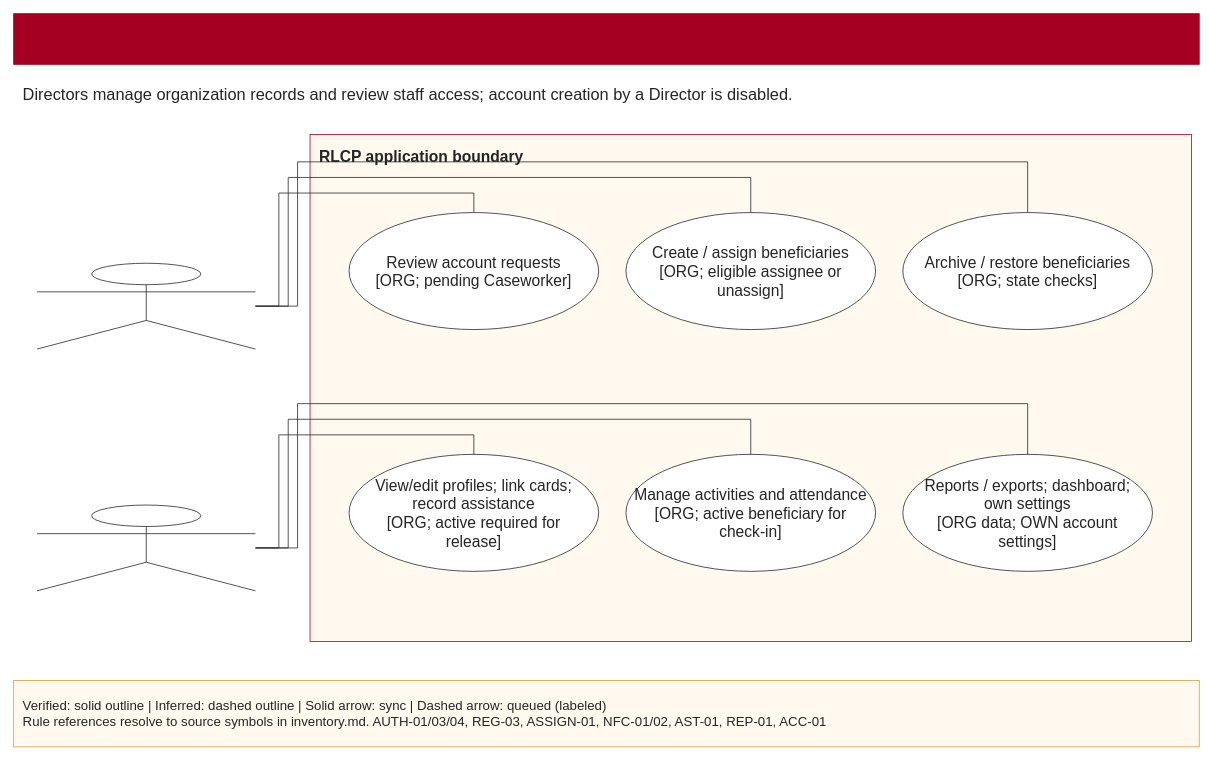
This 1213x761 diagram has some shape labels left out. Each missing label, with the centre of its shape:
02B | Director use cases: (606,38)
Verified Director: (145,305)
Verified Director (same actor): (145,547)
